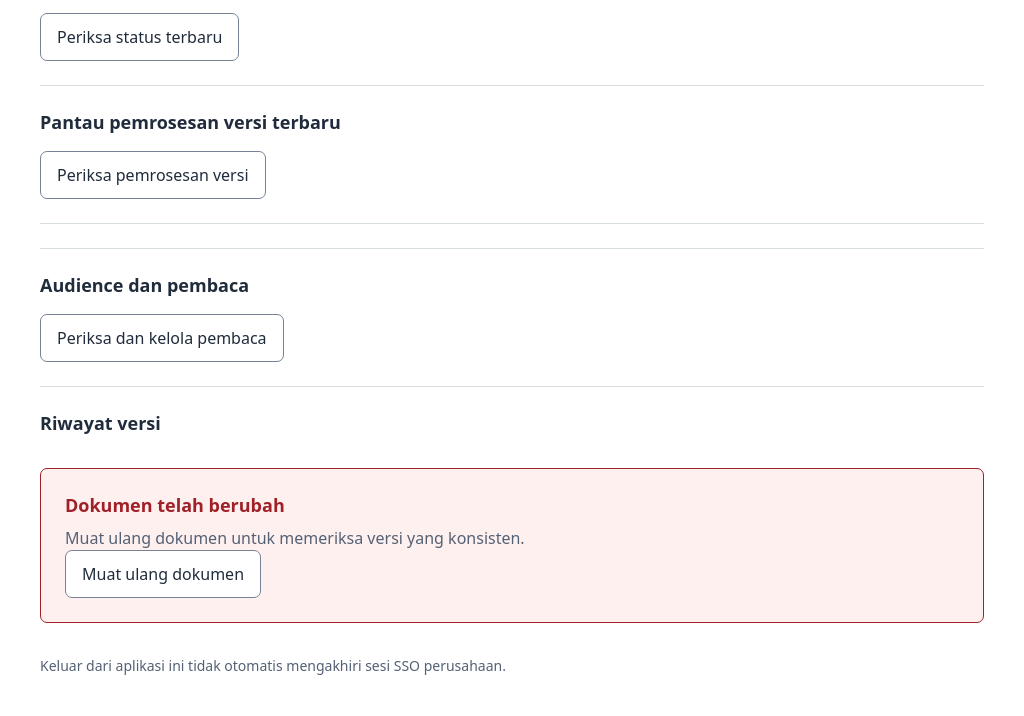
Test case: discards version rows when their CAS differs from the document detail and permits a current reload
The image size is (1024, 716).
(page scrolled)
Check: the heading "Dokumen telah berubah" is shown, box x1=65 y1=493 x2=285 y2=517
Click the button "Muat ulang dokumen" at (163, 574), box x1=65 y1=550 x2=261 y2=598
(page scrolled)
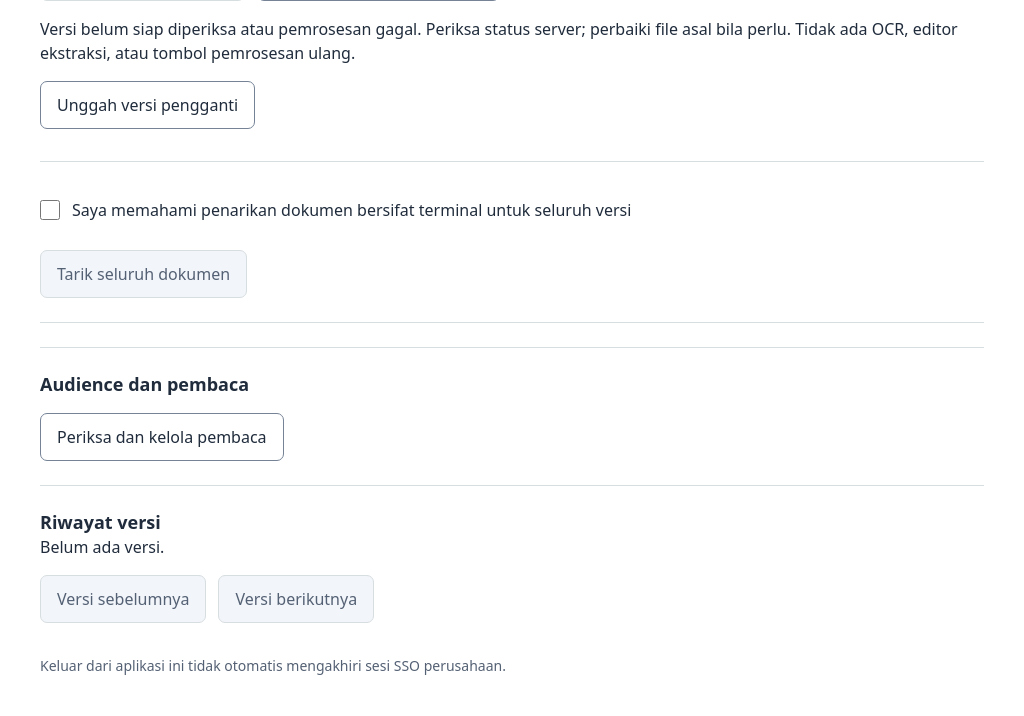
Check: the text "Belum ada versi." is shown, box x1=40 y1=536 x2=164 y2=558
